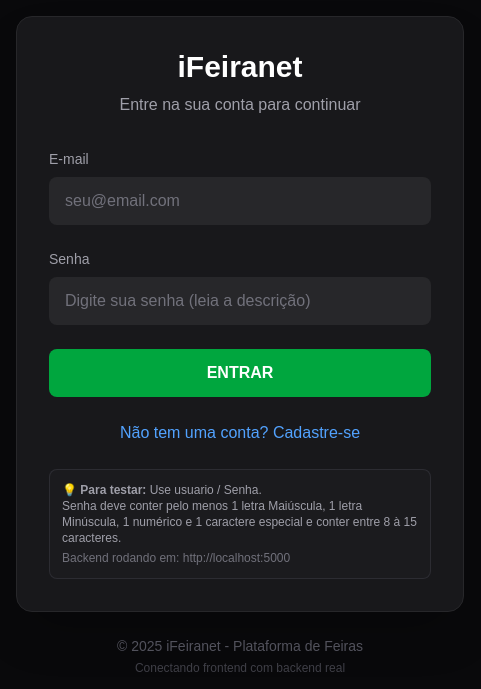
it: Login Component › Test 8: Show loading state during submission
Type "teste@example.com" into the field with placeholder "seu@email.com" at x=240, y=201, box [49,177,431,225]
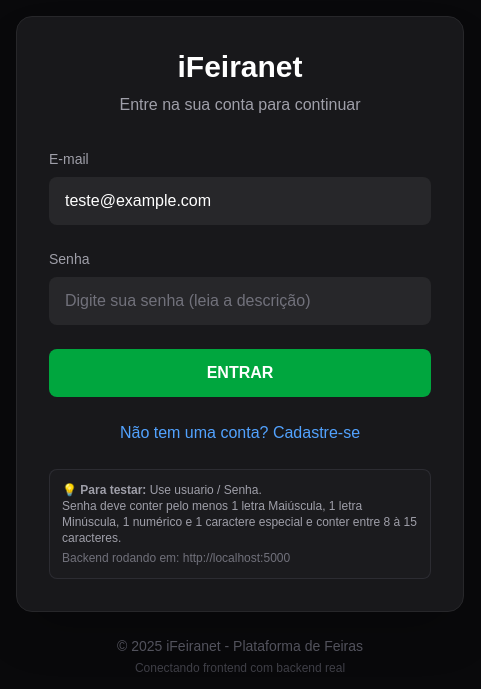
Type "Senha123!" into the password field with placeholder "Digite sua senha (leia a descrição)" at x=240, y=301, box [49,277,431,325]
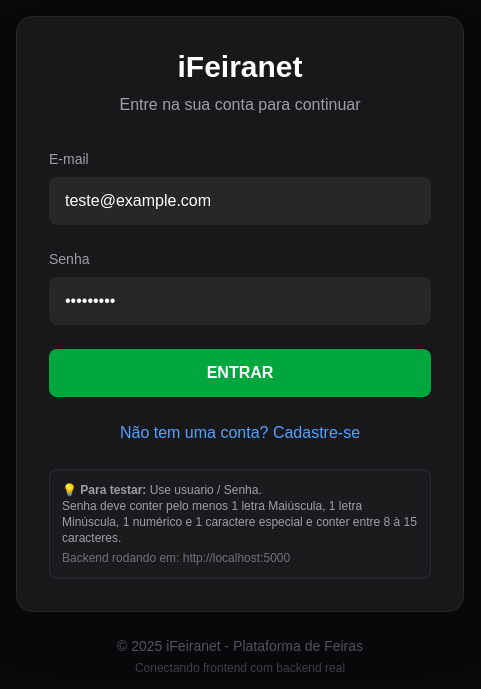
Click the button "ENTRAR" at x=240, y=373, box [49,349,431,397]
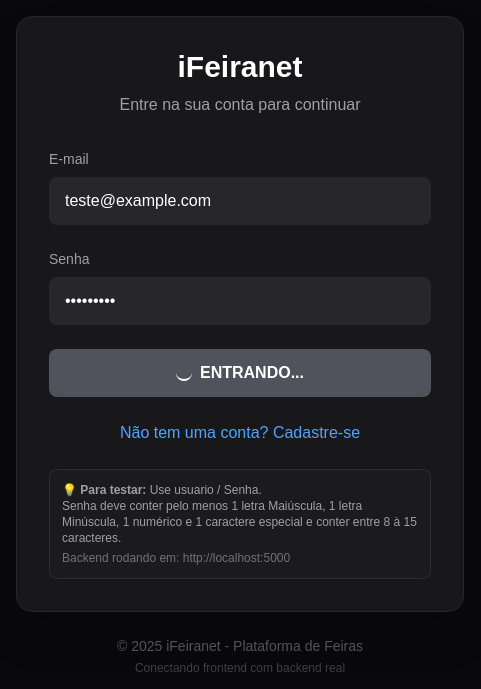
Result: the button named "ENTRAR" is disabled at [49,349,431,397]
